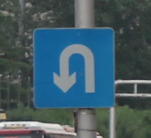u_turn: (33, 28, 114, 108)
